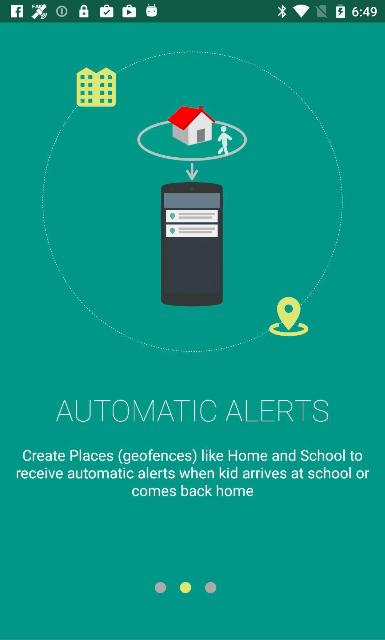Image: (41, 50, 343, 352)
PageIndicator: (154, 580, 218, 594)
Text: (16, 448, 370, 496), (56, 400, 328, 422)
UpperTaskBar: (0, 0, 384, 22)
